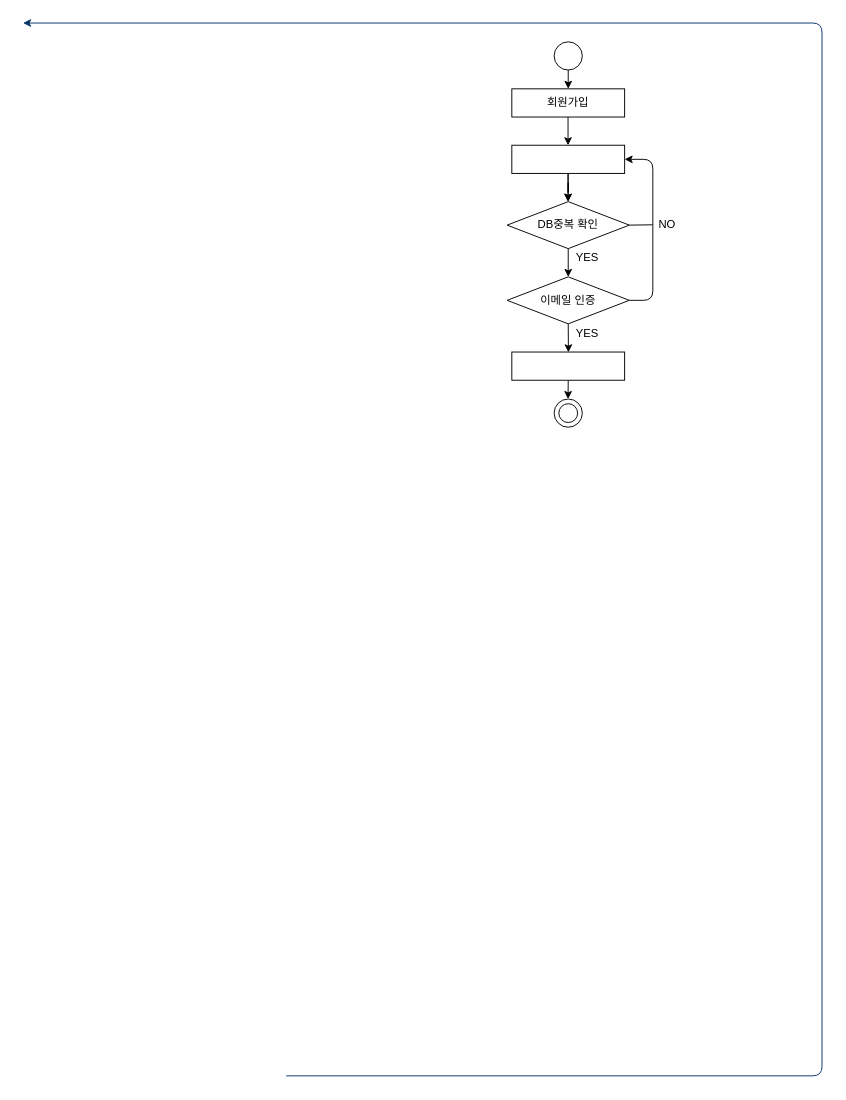
Image size: 846x1100. Some labels were removed from this diagram. Each missing label, with the centre of its shape:
개인정보 입력: (x=568, y=158)
회원가입 완료: (x=568, y=365)
